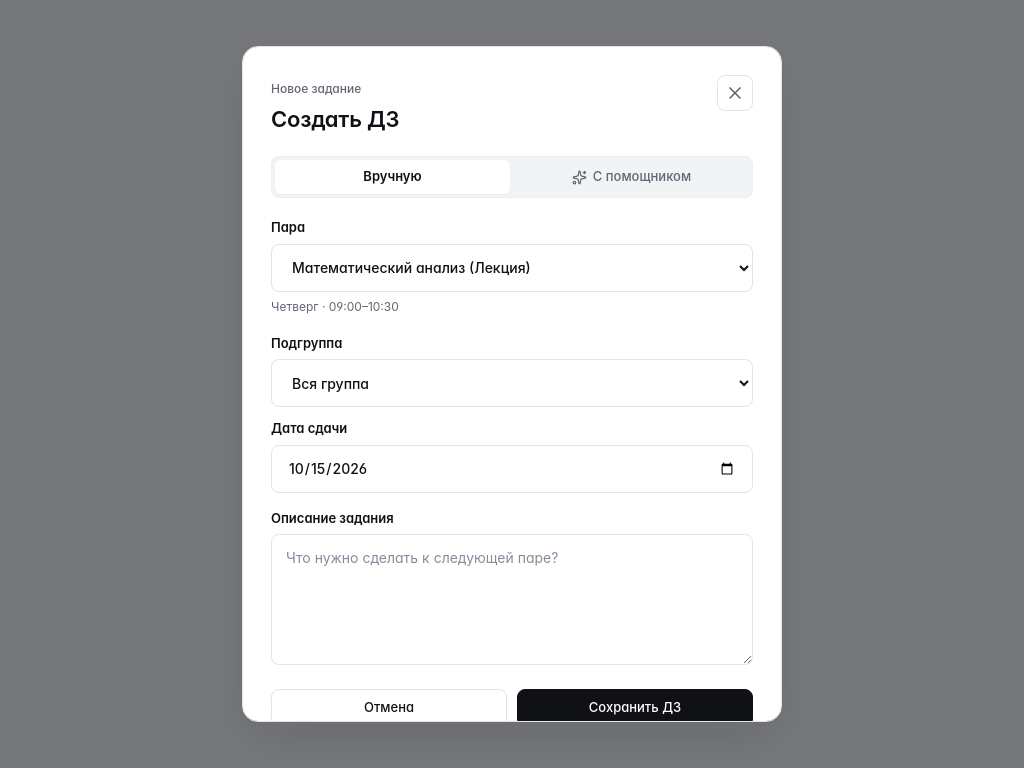
HomeworkEditor › validates required due date
Type "Прочитать главу 4 конспекта" into the text box labelled "Описание задания" at [512, 600], box [271,534,753,665]
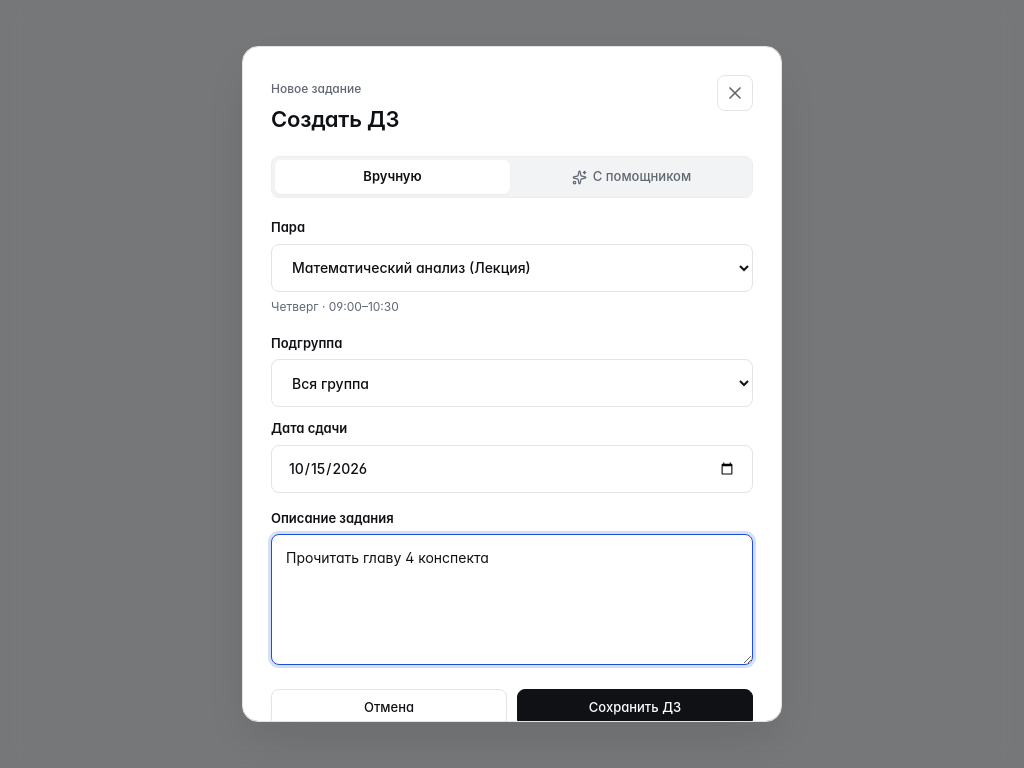
Clear the date field labelled "Дата сдачи" at [512, 469], box [271,445,753,493]
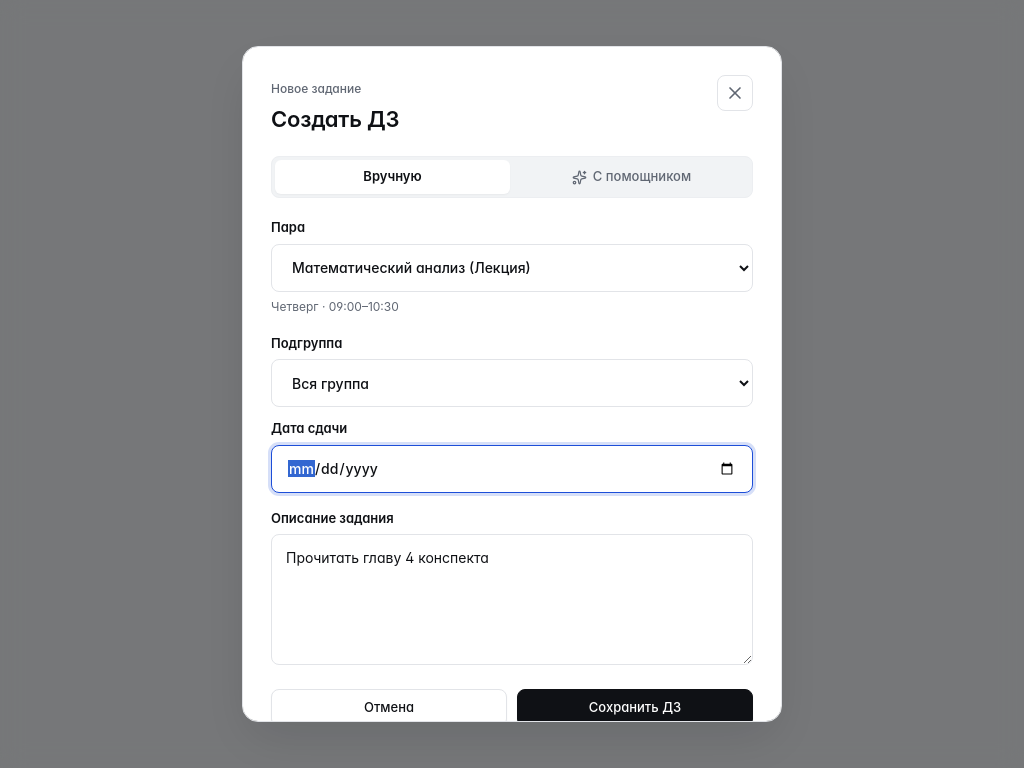
Click the button "Сохранить ДЗ" at [635, 708], box [517,689,753,727]
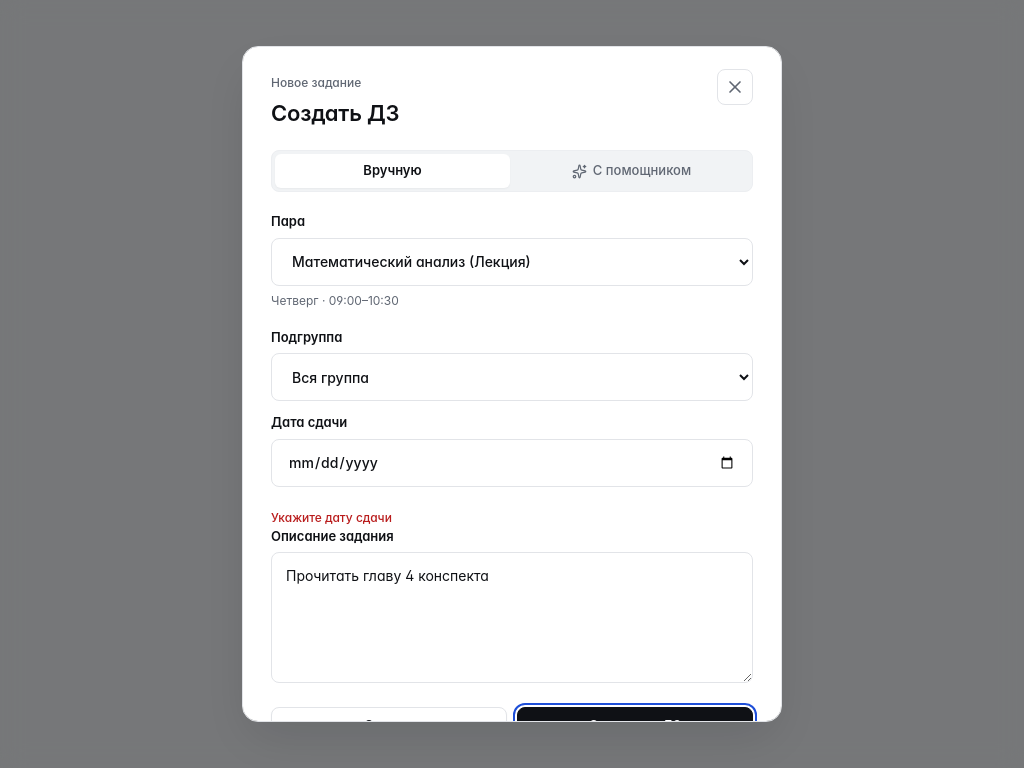
Now the text "Укажите дату сдачи" is shown, box [271,510,392,525]
